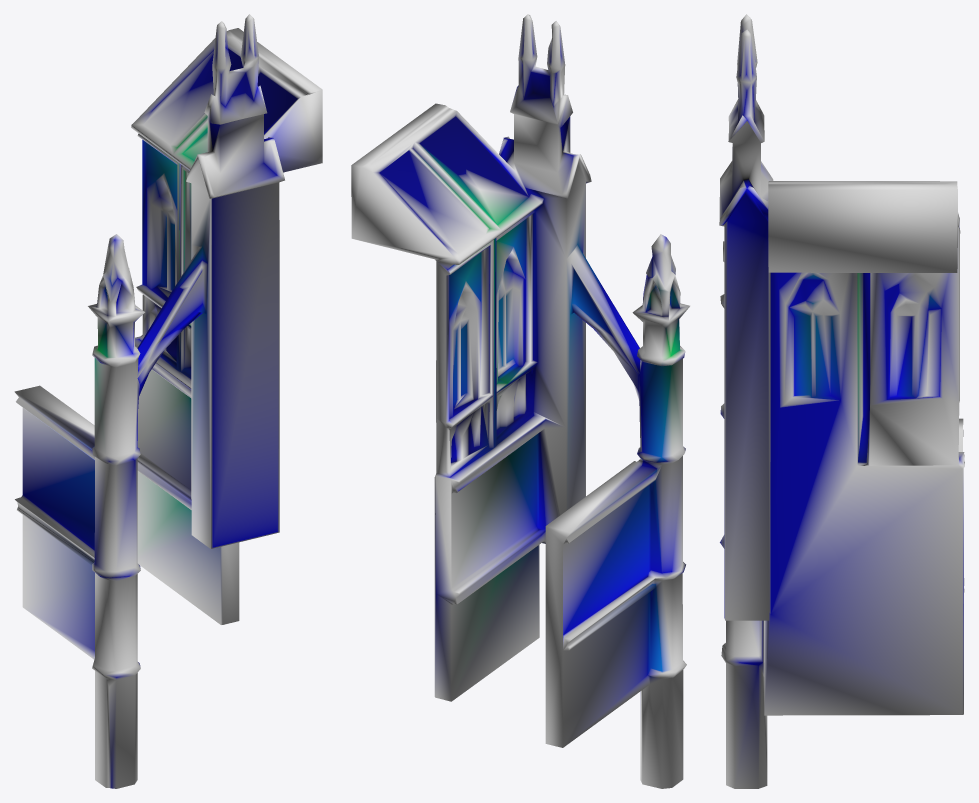
Rendered from SM_Tower_01a.FBX.
3 views of the same model, side by side, from view 1: azimuth 30°, elevation 25°; view 2: azimuth 150°, elevation 25°; view 3: azimuth 270°, elevation 25° (orthographic). The views are drawn at different scales.
Visible parts, largest first — view 1: SMPX_Tower_01a; view 2: SMPX_Tower_01a; view 3: SMPX_Tower_01a.
Boxes of the visible parts, x1=… form: SMPX_Tower_01a: x1=14, y1=14, x2=322, y2=788; SMPX_Tower_01a: x1=351, y1=14, x2=689, y2=788; SMPX_Tower_01a: x1=719, y1=14, x2=964, y2=788.
Bounding box in the file's own units: 2769 × 2215 × 8217.
